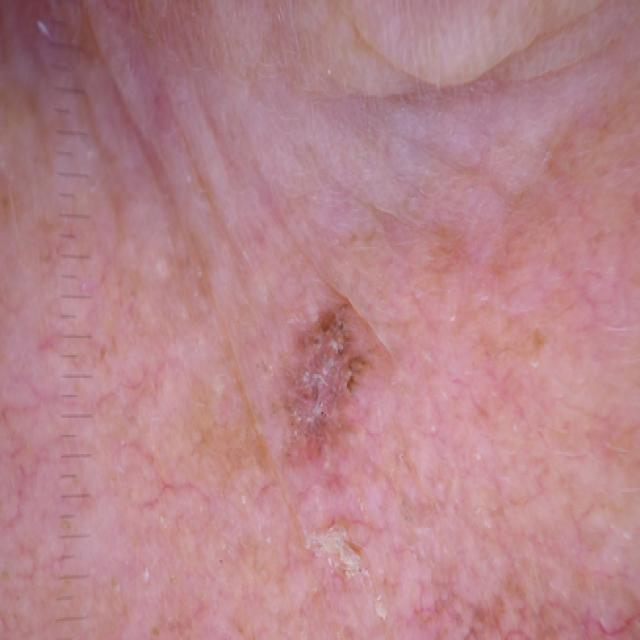Keratosis: (146, 168, 453, 556)
